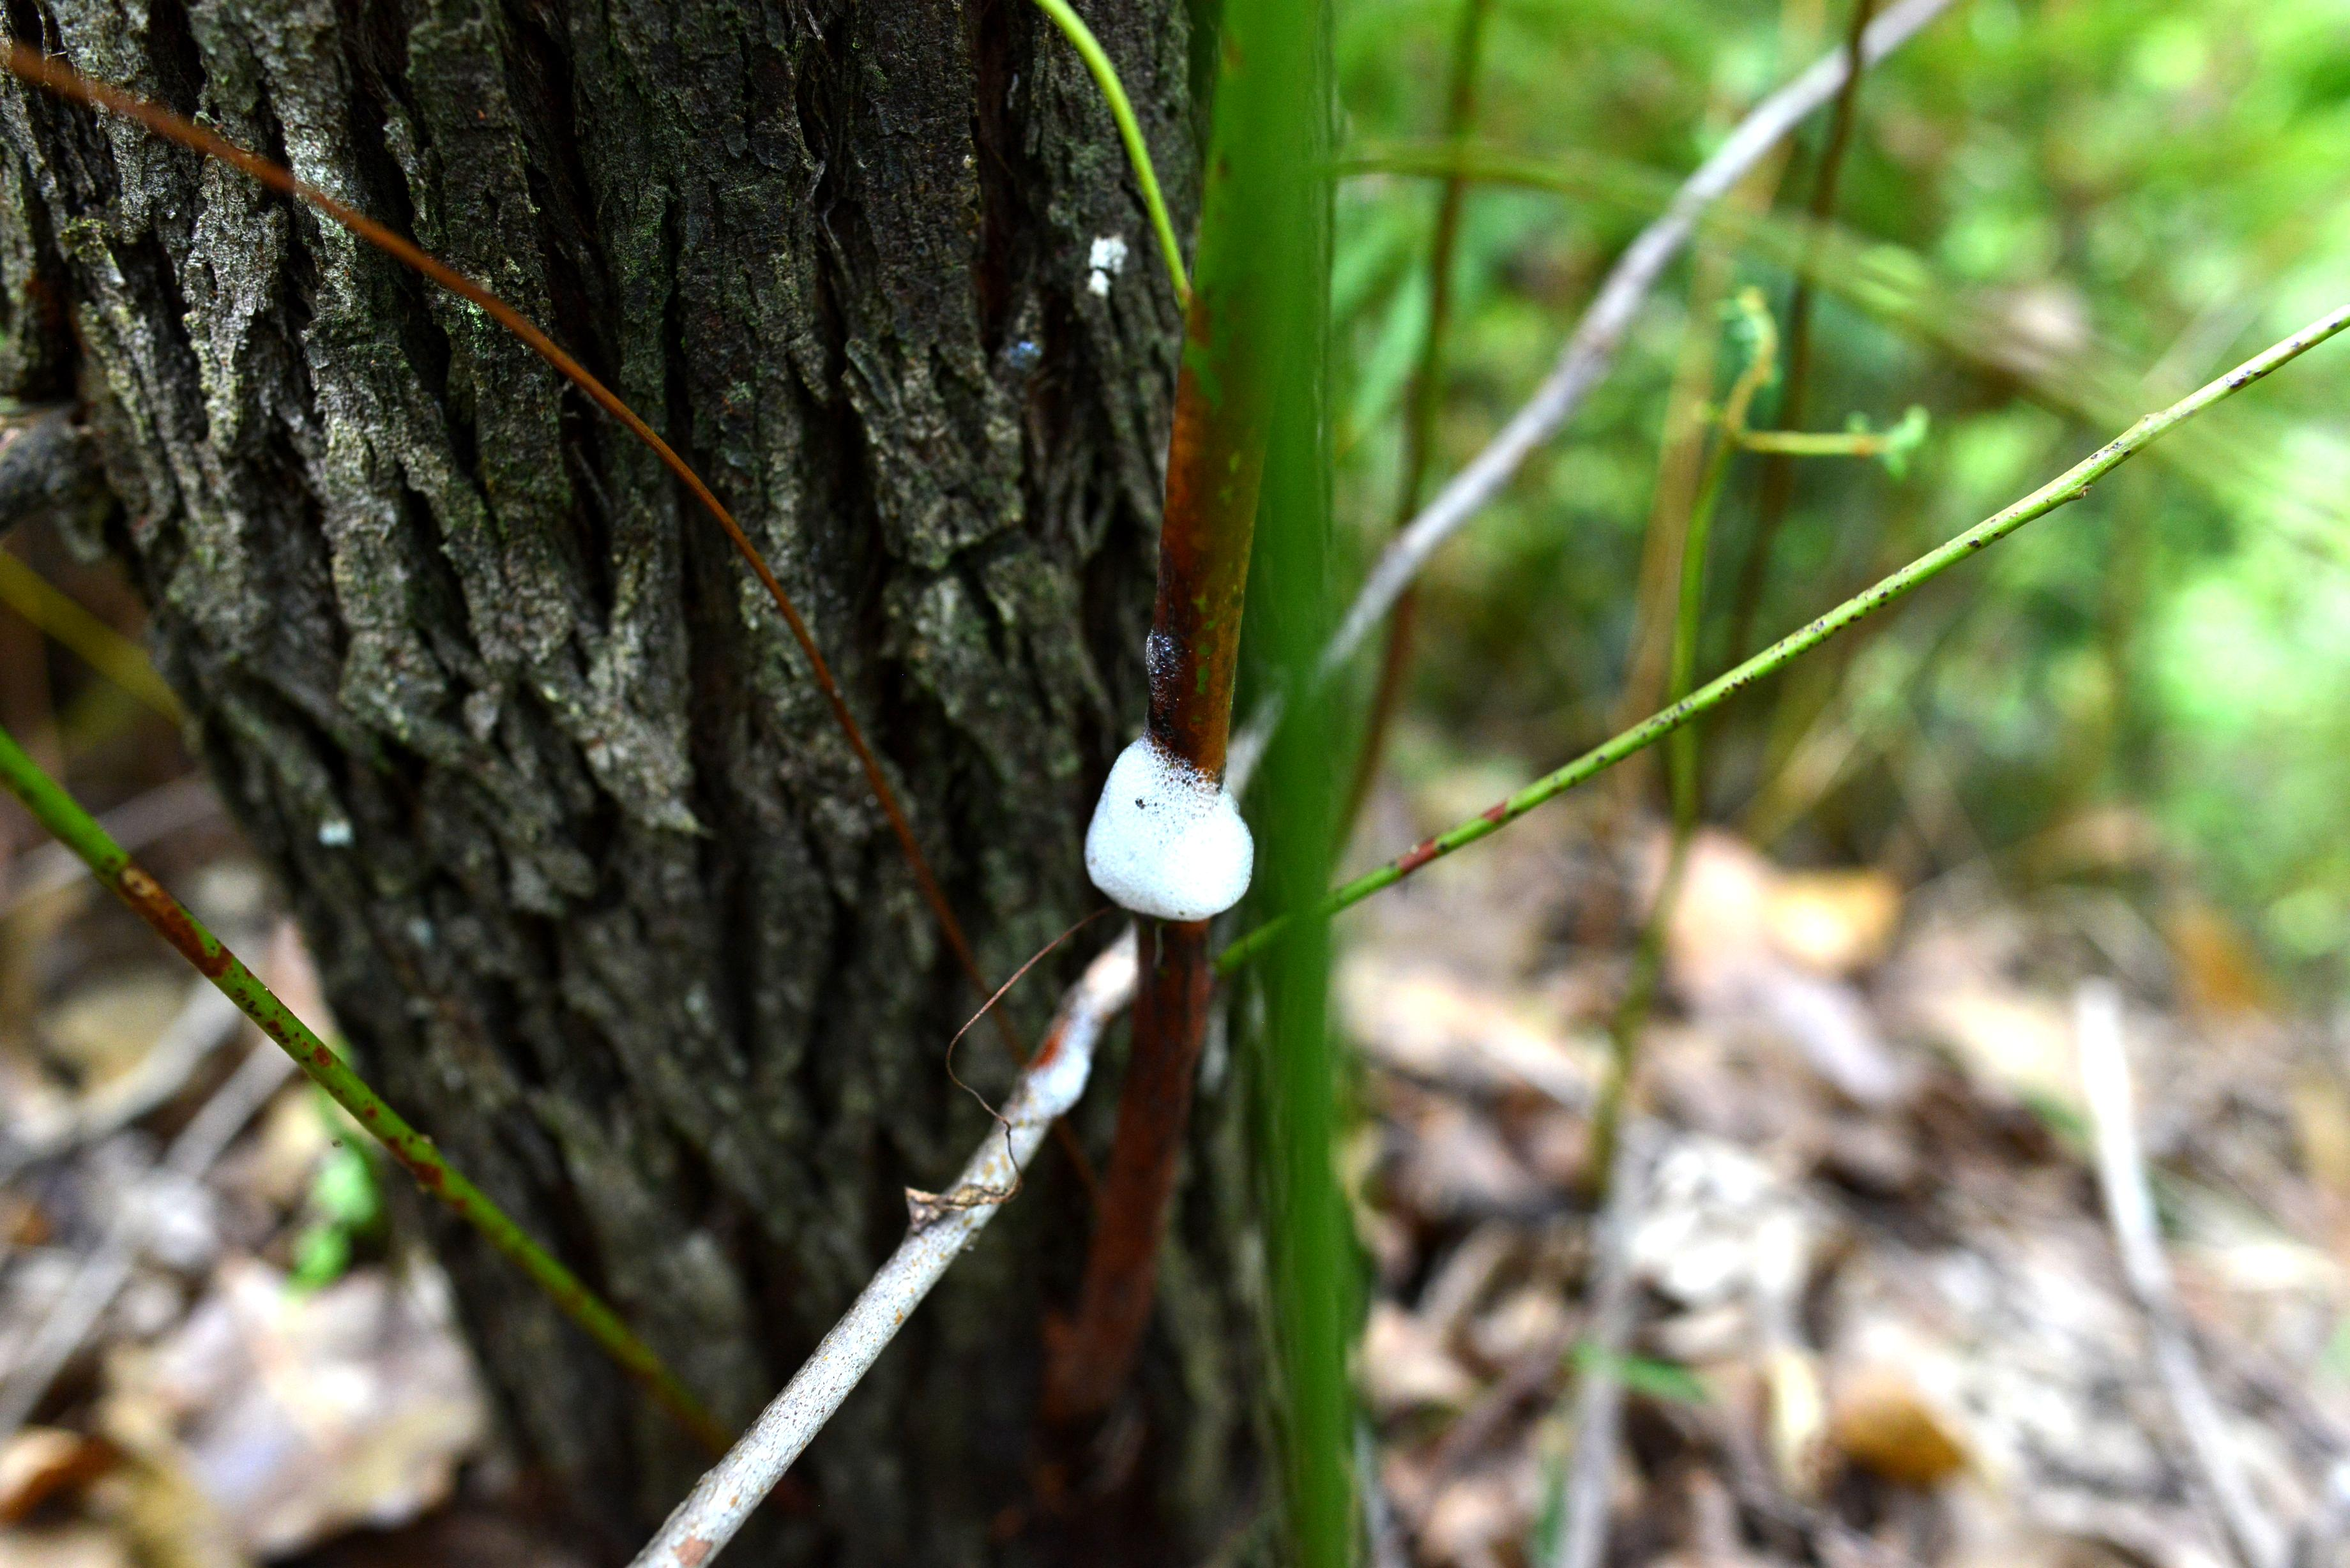Ceratocystis - Bubble: (1080, 738, 1274, 924)
